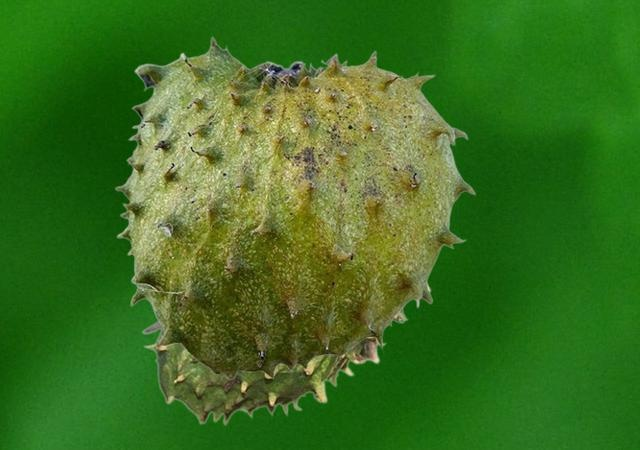guyabano: (114, 35, 475, 379), (141, 282, 432, 425)
